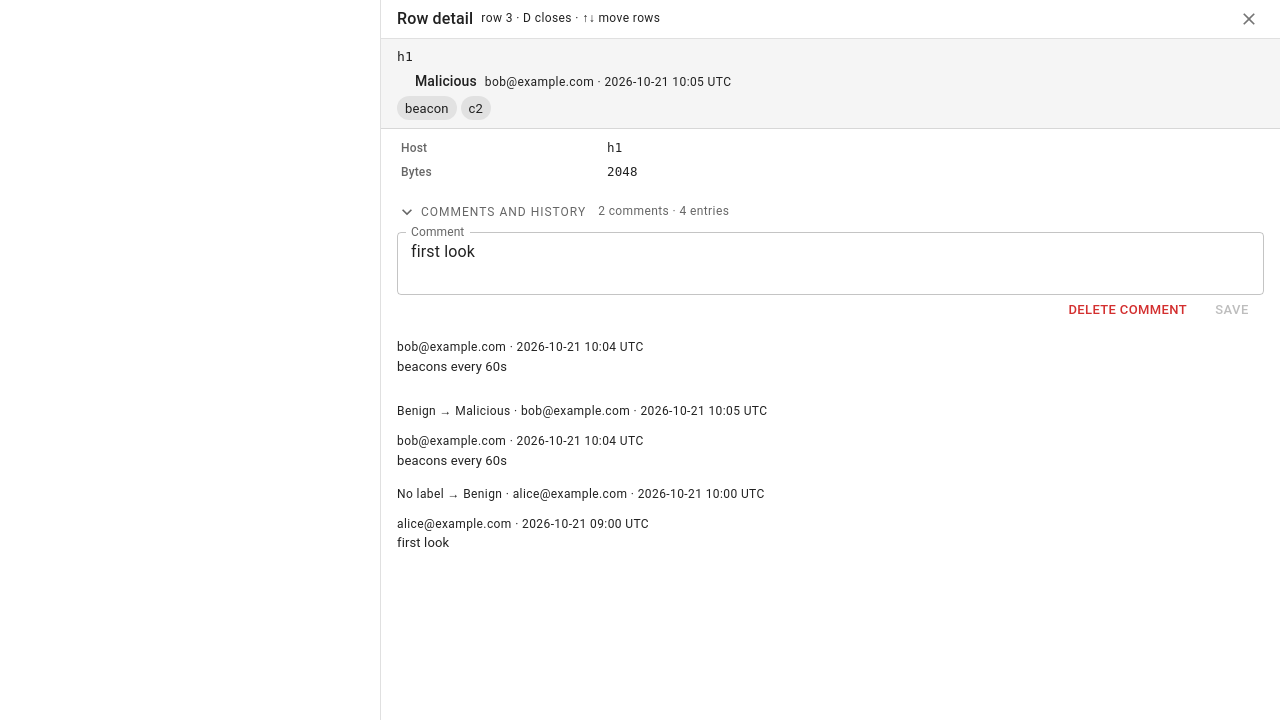
RowDetail › keeps your comment and shows why when deleting it fails
The image size is (1280, 720).
Click the button "Delete comment" at (1128, 310), box x1=1063 y1=295 x2=1192 y2=326
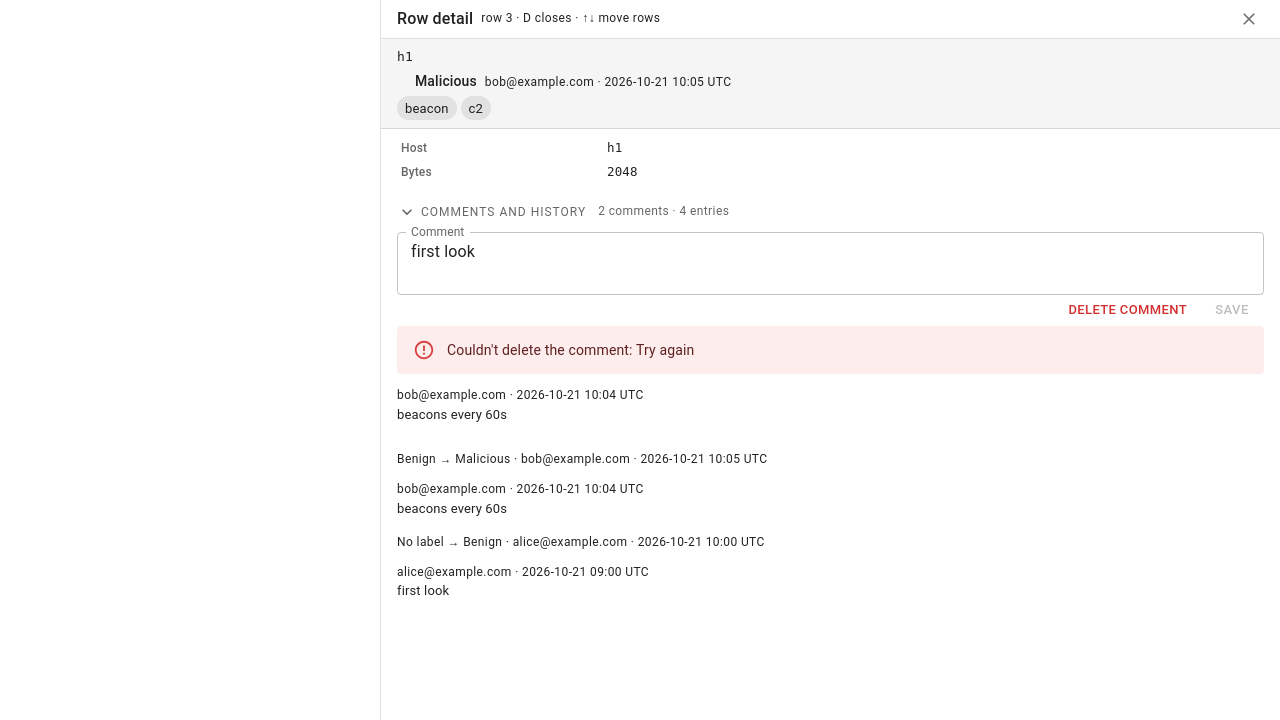
Check: the text box labelled "Comment" holds "first look", box x1=411 y1=240 x2=1250 y2=286
Check: the text "Couldn't delete the comment: Try again" is shown, box x1=447 y1=342 x2=694 y2=358
